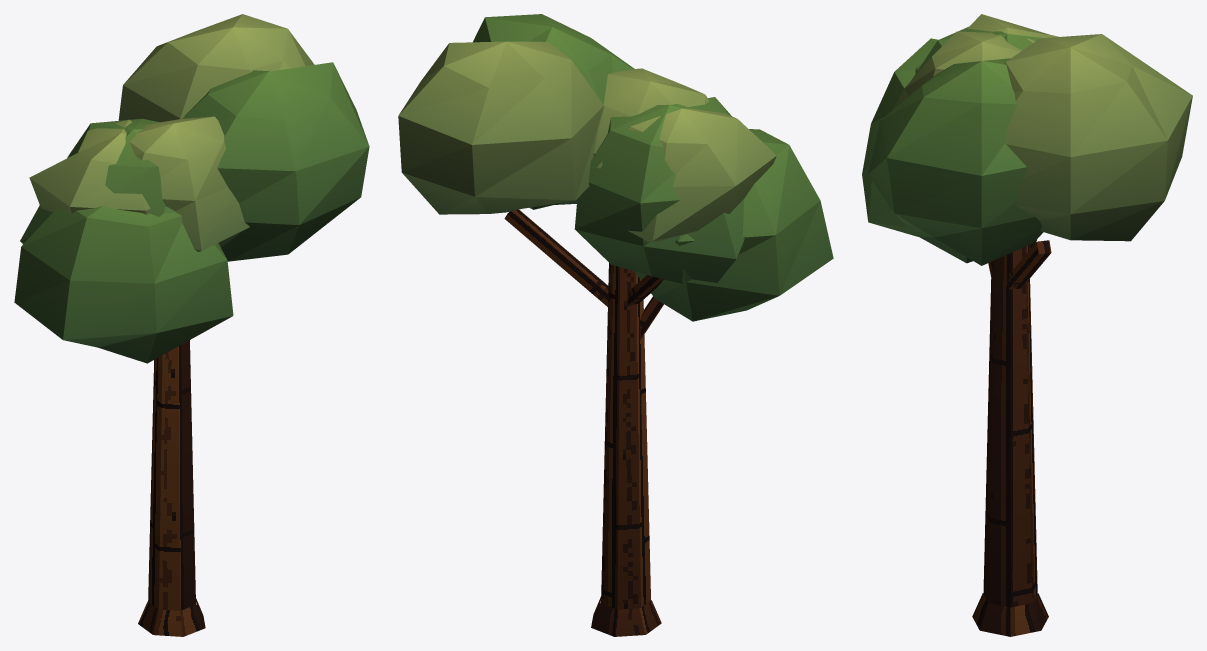
File: birch_3_lowpoly.glb
3 renders of one model, left to right at view 1: azimuth 30°, elevation 25°; view 2: azimuth 150°, elevation 25°; view 3: azimuth 270°, elevation 25°, orthographic. The views are drawn at different scales.
Parts seen in each view (by area): view 1: birch_3_lowpoly; view 2: birch_3_lowpoly; view 3: birch_3_lowpoly.
Boxes of the visible parts, bbox=[...] form: birch_3_lowpoly: bbox=[14, 14, 369, 636]; birch_3_lowpoly: bbox=[398, 14, 833, 636]; birch_3_lowpoly: bbox=[862, 14, 1192, 636].
Bounding box in the file's own units: 3.88 × 6.26 × 3.03.
2 materials, 1 textured.
